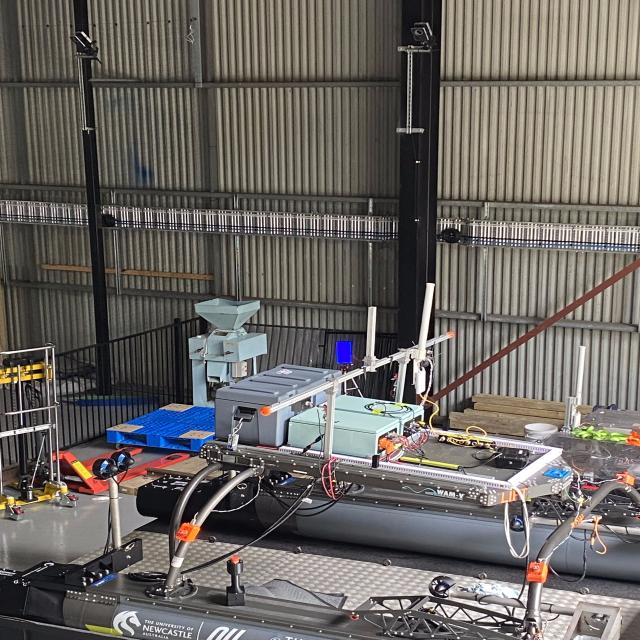matrix: (334, 340, 354, 365)
